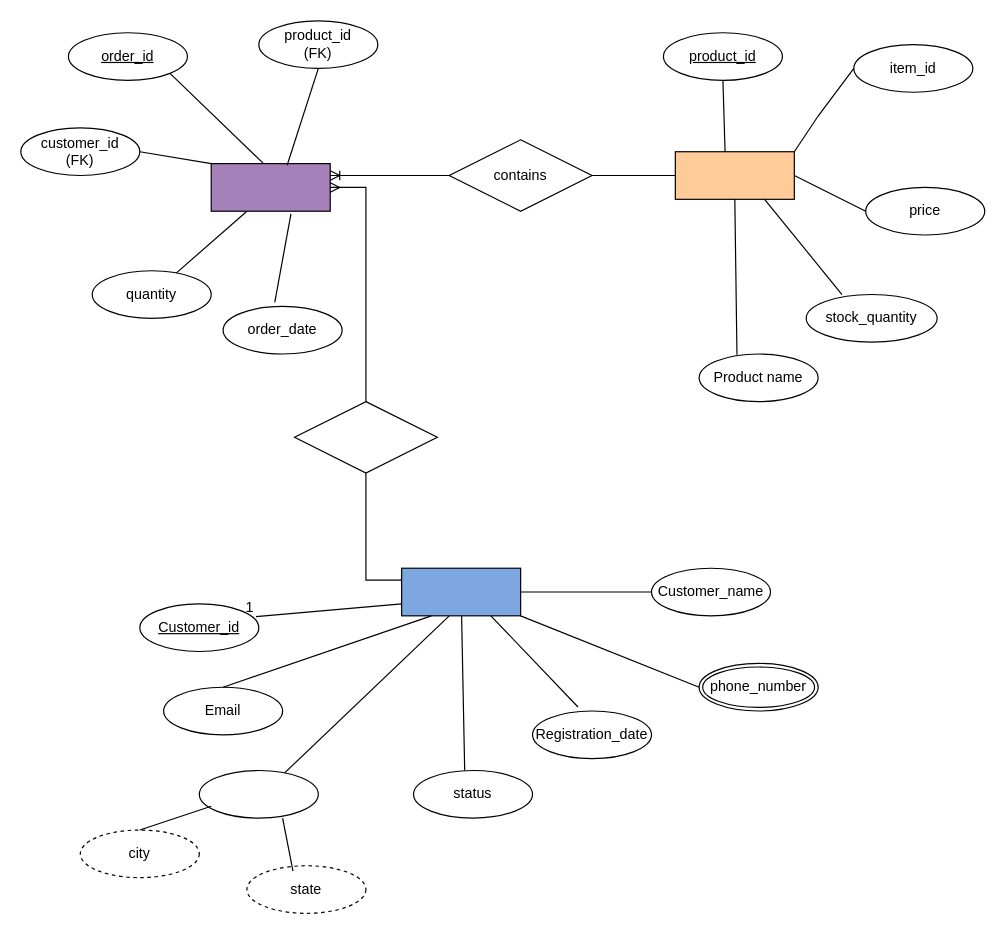
The diagram is 1006 pixels wide and 934 high, and some of its shapes have lost their labels. Here are the shapes that lost their labels. From the top down, the centre of each, then its label:
At point (270, 186): "Orders".
At point (734, 175): "Products".
At point (365, 436): "places".
At point (460, 591): "Customers".
At point (258, 793): "Address".
